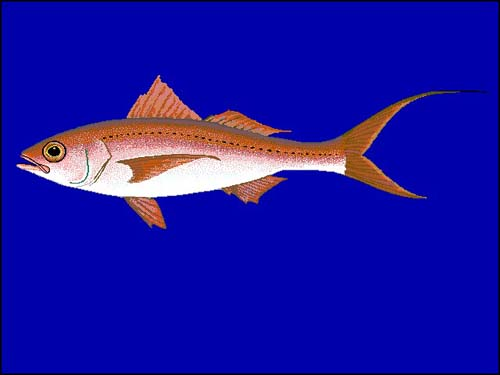fish: (15, 73, 489, 230)
